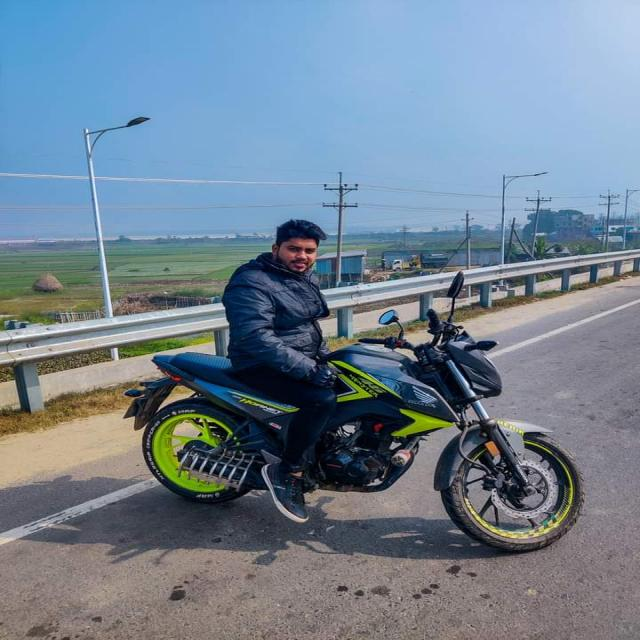Not Wearing Helmet: (200, 180, 411, 320)
